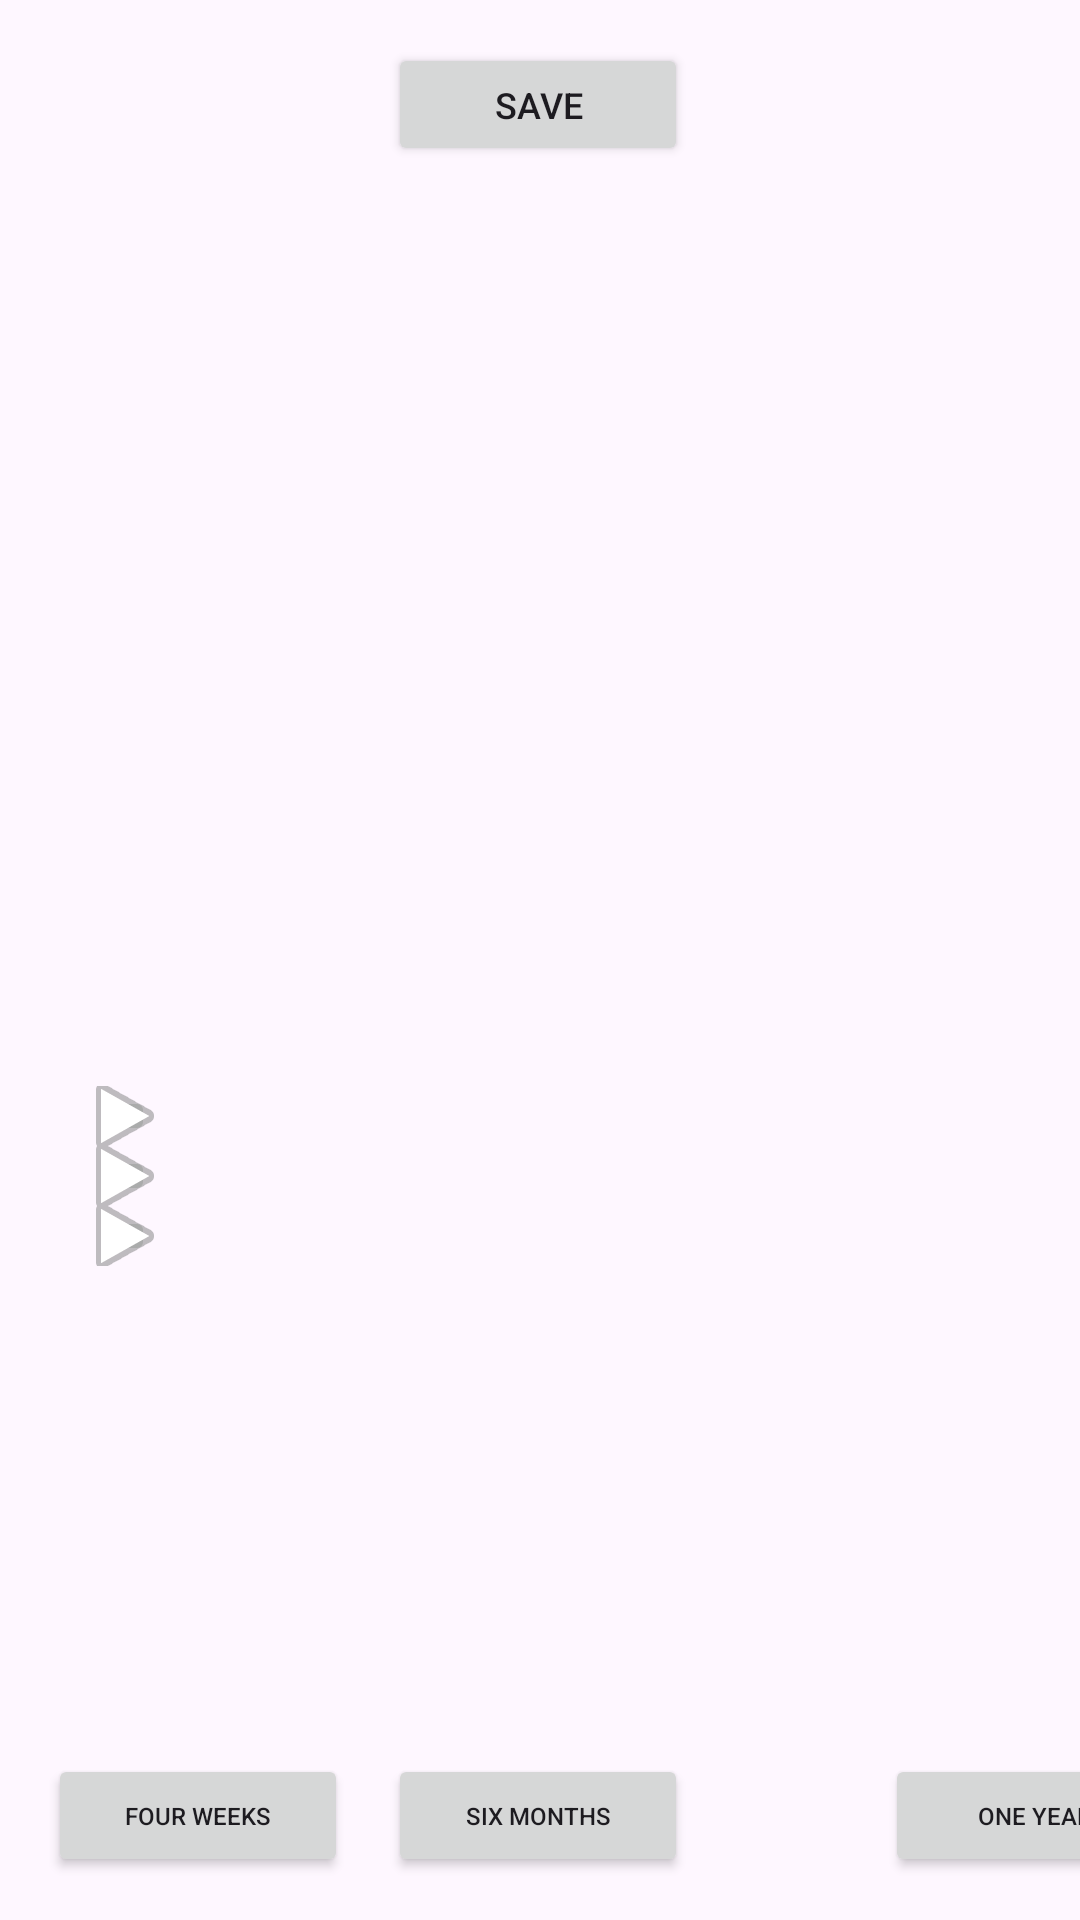

Icon bounding boxes for this 1080x1920 phone screenshot, format (x1, y1, x2, y2):
play: (96, 1086, 154, 1146), (96, 1146, 154, 1206), (96, 1206, 154, 1266)
